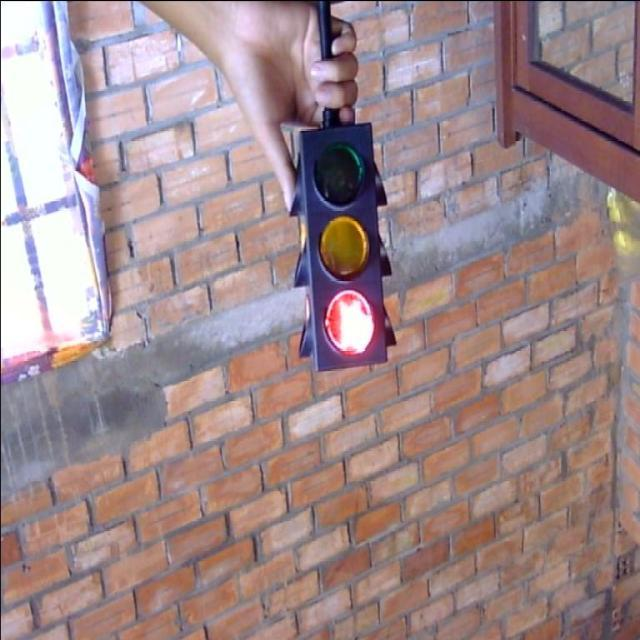red light: (320, 288, 380, 357)
